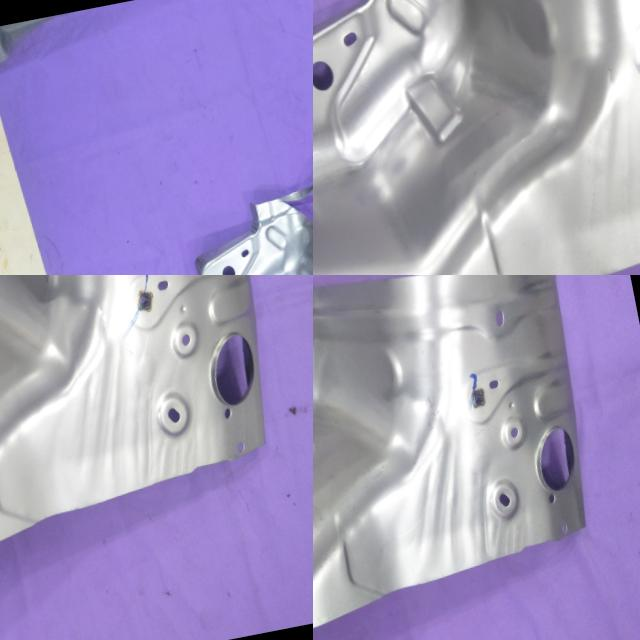Defect: (275, 174, 313, 236)
Healthy: (313, 275, 621, 640), (0, 275, 308, 631), (313, 0, 640, 275)
